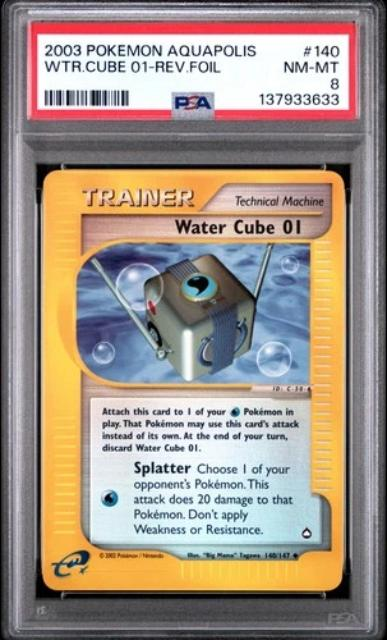Card: (36, 165, 350, 596)
Name: (165, 215, 310, 241)
